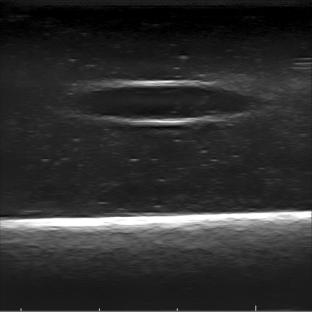vessel: (77, 80, 260, 126)
